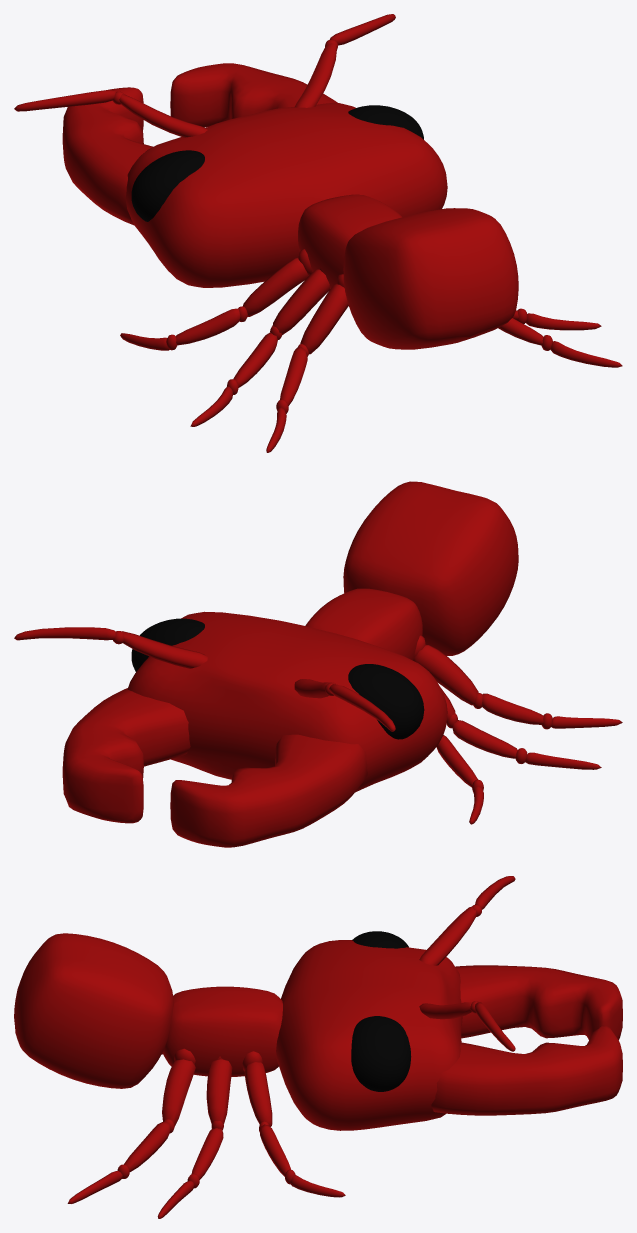
The model's file is Player rouge.fbx.
3 renders of one model, top to bottom at view 1: azimuth 30°, elevation 25°; view 2: azimuth 150°, elevation 25°; view 3: azimuth 270°, elevation 25°, orthographic. The views are drawn at different scales.
Parts seen in each view (by area): view 1: Major rouge; view 2: Major rouge; view 3: Major rouge.
Boxes of the visible parts, x1,y1,x2,y2 form: Major rouge: [14, 14, 622, 452]; Major rouge: [14, 481, 622, 847]; Major rouge: [14, 876, 622, 1218].
Size of the model in its own units: 2.66 by 1.18 by 3.67.
